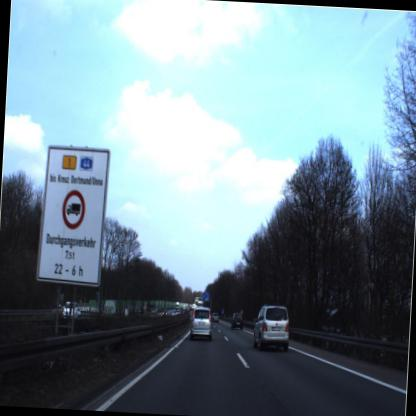prohibitory: (58, 184, 90, 234)
